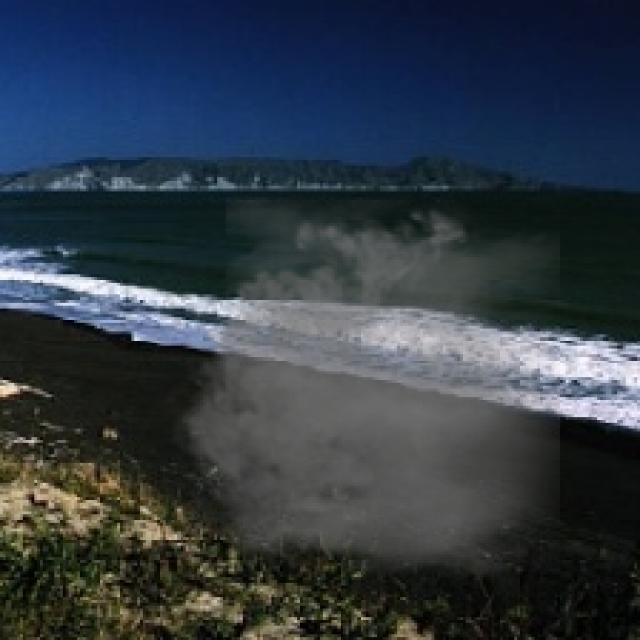smoke: (160, 197, 560, 577)
